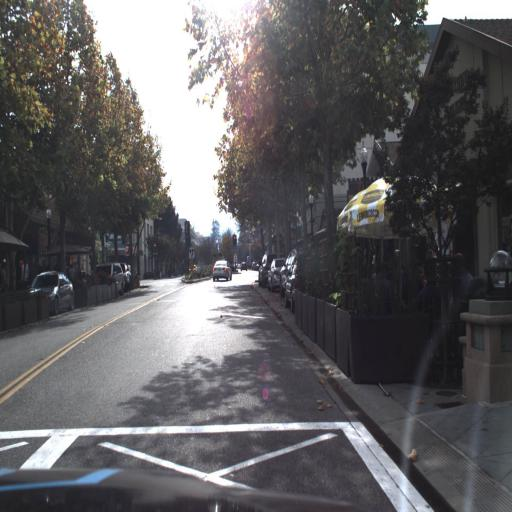car: (24, 266, 76, 314), (92, 257, 126, 295), (267, 257, 287, 292), (212, 257, 233, 282)
trafficLight-Red: (232, 232, 239, 249)
